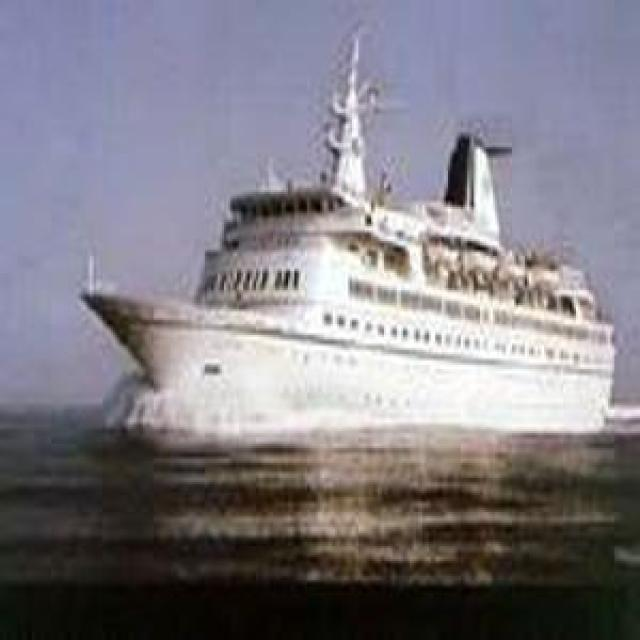navalvessels: (71, 174, 621, 434)
